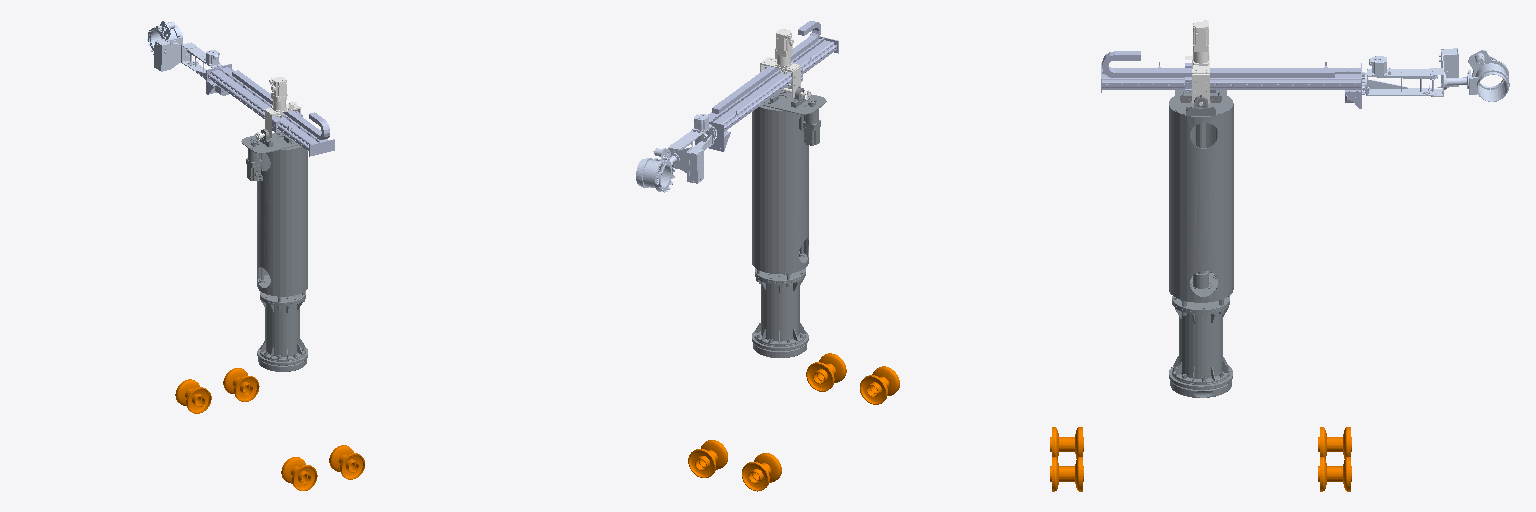
robot.urdf — 架子式桃子采摘机器人总装4:
<?xml version="1.0"?>
<robot name="架子式桃子采摘机器人总装4">

  <!-- 虚拟根连杆：KDL 不支持根连杆带惯量，用无惯量的 base_footprint 作 TF 树根（REP-105） -->
  <link name="base_footprint"/>

  <joint name="base_footprint_joint" type="fixed">
    <parent link="base_footprint"/>
    <child link="base_link"/>
    <origin xyz="0 0 0" rpy="0 0 0"/>
  </joint>

  <link name="base_link">
    <visual>
      <origin xyz="0 0 0" rpy="0 0 0" />
      <geometry>
        <mesh filename="package://peach_gantry_description/meshes/base_link.STL" />
      </geometry>
      <material name="">
        <color rgba="1.00000000 0.00000000 0.00000000 1.00000000"/>
      </material>
    </visual>
    <collision>
      <origin xyz="0 0 0" rpy="0 0 0" />
      <geometry>
        <mesh filename="package://peach_gantry_description/meshes/base_link.STL" />
      </geometry>
    </collision>
    <inertial>
      <origin xyz="-0.1464429 0.0020312 -0.142396" rpy="0 0 0" />
      <mass value="196.9928677" />
      <inertia ixx="4.3980832" ixy="-0.0011572" ixz="-0.0024354" iyy="11.4438345" iyz="-0.0021542" izz="13.3446757" />
    </inertial>
  </link>

  <link name="right1_link">
    <visual>
      <origin xyz="0 0 0" rpy="0 0 0" />
      <geometry>
        <mesh filename="package://peach_gantry_description/meshes/right1_link.STL" />
      </geometry>
      <material name="">
        <color rgba="1.00000000 0.54902000 0.00000000 1.00000000"/>
      </material>
    </visual>
    <collision>
      <origin xyz="0 0 0" rpy="0 0 0" />
      <geometry>
        <mesh filename="package://peach_gantry_description/meshes/right1_link.STL" />
      </geometry>
    </collision>
    <inertial>
      <origin xyz="0 0 -0.08047" rpy="0 0 0" />
      <mass value="2.1306" />
      <inertia ixx="0.0033864" ixy="0" ixz="0" iyy="0.0033864" iyz="0" izz="0.0043308" />
    </inertial>
  </link>

  <link name="right2_link">
    <visual>
      <origin xyz="0 0 0" rpy="0 0 0" />
      <geometry>
        <mesh filename="package://peach_gantry_description/meshes/right2_link.STL" />
      </geometry>
      <material name="">
        <color rgba="1.00000000 0.54901961 0.00000000 1.00000000"/>
      </material>
    </visual>
    <collision>
      <origin xyz="0 0 0" rpy="0 0 0" />
      <geometry>
        <mesh filename="package://peach_gantry_description/meshes/right2_link.STL" />
      </geometry>
    </collision>
    <inertial>
      <origin xyz="0 0 -0.08047" rpy="0 0 0" />
      <mass value="2.1306481" />
      <inertia ixx="0.0033864" ixy="0" ixz="0" iyy="0.0033864" iyz="0" izz="0.0043308" />
    </inertial>
  </link>

  <link name="left1_link">
    <visual>
      <origin xyz="0 0 0" rpy="0 0 0" />
      <geometry>
        <mesh filename="package://peach_gantry_description/meshes/left1_link.STL" />
      </geometry>
      <material name="">
        <color rgba="1.00000000 0.54901961 0.00000000 1.00000000"/>
      </material>
    </visual>
    <collision>
      <origin xyz="0 0 0" rpy="0 0 0" />
      <geometry>
        <mesh filename="package://peach_gantry_description/meshes/left1_link.STL" />
      </geometry>
    </collision>
    <inertial>
      <origin xyz="0 0 0.08047" rpy="0 0 0" />
      <mass value="2.1306481" />
      <inertia ixx="0.0033864" ixy="0" ixz="0" iyy="0.0033864" iyz="0" izz="0.0043308" />
    </inertial>
  </link>

  <link name="left2_link">
    <visual>
      <origin xyz="0 0 0" rpy="0 0 0" />
      <geometry>
        <mesh filename="package://peach_gantry_description/meshes/left2_link.STL" />
      </geometry>
      <material name="">
        <color rgba="1.00000000 0.54901961 0.00000000 1.00000000"/>
      </material>
    </visual>
    <collision>
      <origin xyz="0 0 0" rpy="0 0 0" />
      <geometry>
        <mesh filename="package://peach_gantry_description/meshes/left2_link.STL" />
      </geometry>
    </collision>
    <inertial>
      <origin xyz="0 0 0.08047" rpy="0 0 0" />
      <mass value="2.1306481" />
      <inertia ixx="0.0033864" ixy="0" ixz="0" iyy="0.0033864" iyz="0" izz="0.0043308" />
    </inertial>
  </link>

  <link name="link1">
    <visual>
      <origin xyz="0 0 0" rpy="0 0 0" />
      <geometry>
        <mesh filename="package://peach_gantry_description/meshes/link1.STL" />
      </geometry>
      <material name="">
        <color rgba="0.61568627 0.64313725 0.67450980 1.00000000"/>
      </material>
    </visual>
    <collision>
      <origin xyz="0 0 0" rpy="0 0 0" />
      <geometry>
        <mesh filename="package://peach_gantry_description/meshes/link1.STL" />
      </geometry>
    </collision>
    <inertial>
      <origin xyz="-0.0001216 -0.0000721 0.4433465" rpy="0 0 0" />
      <mass value="33.5976929" />
      <inertia ixx="0.9014928" ixy="-0.0000331" ixz="-0.000085" iyy="0.9010152" iyz="-0.0000091" izz="0.1582769" />
    </inertial>
  </link>

  <link name="link2">
    <visual>
      <origin xyz="0 0 0" rpy="0 0 0" />
      <geometry>
        <mesh filename="package://peach_gantry_description/meshes/link2.STL" />
      </geometry>
      <material name="">
        <color rgba="0.61568627 0.64313725 0.67450980 1.00000000"/>
      </material>
    </visual>
    <collision>
      <origin xyz="0 0 0" rpy="0 0 0" />
      <geometry>
        <mesh filename="package://peach_gantry_description/meshes/link2.STL" />
      </geometry>
    </collision>
    <inertial>
      <origin xyz="-0.002365 -0.0000007 0.3819323" rpy="0 0 0" />
      <mass value="23.1376583" />
      <inertia ixx="0.8063871" ixy="0.0012704" ixz="-0.0000001" iyy="0.7947931" iyz="0.0000001" izz="0.2797177" />
    </inertial>
  </link>

  <link name="link3">
    <visual>
      <origin xyz="0 0 0" rpy="0 0 0" />
      <geometry>
        <mesh filename="package://peach_gantry_description/meshes/link3.STL" />
      </geometry>
      <material name="">
        <color rgba="1.00000000 1.00000000 1.00000000 1.00000000"/>
      </material>
    </visual>
    <collision>
      <origin xyz="0 0 0" rpy="0 0 0" />
      <geometry>
        <mesh filename="package://peach_gantry_description/meshes/link3.STL" />
      </geometry>
    </collision>
    <inertial>
      <origin xyz="-0.1037037 -0.0005206 -0.124123" rpy="0 0 0" />
      <mass value="0.4310566" />
      <inertia ixx="0.000523" ixy="-0.0000008" ixz="0.0000002" iyy="0.0006795" iyz="-0.0000001" izz="0.0003827" />
    </inertial>
  </link>

  <link name="link4">
    <visual>
      <origin xyz="0 0 0" rpy="0 0 0" />
      <geometry>
        <mesh filename="package://peach_gantry_description/meshes/link4.STL" />
      </geometry>
      <material name="">
        <color rgba="0.79216000 0.81961000 0.93333000 1.00000000"/>
      </material>
    </visual>
    <collision>
      <origin xyz="0 0 0" rpy="0 0 0" />
      <geometry>
        <mesh filename="package://peach_gantry_description/meshes/link4.STL" />
      </geometry>
    </collision>
    <inertial>
      <origin xyz="0.0074906 -0.031854 0.15501" rpy="0 0 0" />
      <mass value="3.2005" />
      <inertia ixx="0.19353" ixy="0.0000164" ixz="0.0000007" iyy="0.19429" iyz="-0.003156" izz="0.0038058" />
    </inertial>
  </link>

  <link name="link5">
    <visual>
      <origin xyz="0 0 0" rpy="0 0 0" />
      <geometry>
        <mesh filename="package://peach_gantry_description/meshes/link5.STL" />
      </geometry>
      <material name="">
        <color rgba="0.86666667 0.90980392 1.00000000 1.00000000"/>
      </material>
    </visual>
    <collision>
      <origin xyz="0 0 0" rpy="0 0 0" />
      <geometry>
        <mesh filename="package://peach_gantry_description/meshes/link5.STL" />
      </geometry>
    </collision>
    <inertial>
      <origin xyz="-0.0109649 0.0060867 0.1084363" rpy="0 0 0" />
      <mass value="0.5388368" />
      <inertia ixx="0.0016443" ixy="-0.0000217" ixz="-0.0000031" iyy="0.0016085" iyz="0.0000012" izz="0.0002419" />
    </inertial>
  </link>

  <link name="link6">
    <visual>
      <origin xyz="0 0 0" rpy="0 0 0" />
      <geometry>
        <mesh filename="package://peach_gantry_description/meshes/link6.STL" />
      </geometry>
      <material name="">
        <color rgba="0.86666667 0.90980392 1.00000000 1.00000000"/>
      </material>
    </visual>
    <collision>
      <origin xyz="0 0 0" rpy="0 0 0" />
      <geometry>
        <mesh filename="package://peach_gantry_description/meshes/link6.STL" />
      </geometry>
    </collision>
    <inertial>
      <origin xyz="0.0667896 0.1291973 -0.0039918" rpy="0 0 0" />
      <mass value="1.1636596" />
      <inertia ixx="0.0027843" ixy="0.0000145" ixz="0.0000323" iyy="0.0021337" iyz="-0.0000716" izz="0.0015378" />
    </inertial>
  </link>

  <joint name="right1_joint" type="continuous">
    <parent link="base_link" />
    <child link="right1_link" />
    <origin xyz="0.065 -0.59797 -0.315" rpy="1.5708 0 0" />
    <axis xyz="0 0 -1" />
    <!-- 同 joint1：continuous 关节补 <limit>，避免控制器解析 URDF 限值时段错误 -->
    <limit effort="100" velocity="10" />
    <hardware>
      <motorType>None</motorType>
      <motorDirection>1</motorDirection>
      <armature>0</armature>
    </hardware>
  </joint>

  <joint name="right2_joint" type="continuous">
    <parent link="base_link" />
    <child link="right2_link" />
    <origin xyz="-0.205 -0.59797 -0.315" rpy="1.5708 0 0" />
    <axis xyz="0 0 -1" />
    <!-- 同 joint1：continuous 关节补 <limit>，避免控制器解析 URDF 限值时段错误 -->
    <limit effort="100" velocity="10" />
    <hardware>
      <motorType>None</motorType>
      <motorDirection>1</motorDirection>
      <armature>0</armature>
    </hardware>
  </joint>

  <joint name="left1_joint" type="continuous">
    <parent link="base_link" />
    <child link="left1_link" />
    <origin xyz="0.065 0.59797 -0.315" rpy="1.5708 0 0" />
    <axis xyz="0 0 -1" />
    <!-- 同 joint1：continuous 关节补 <limit>，避免控制器解析 URDF 限值时段错误 -->
    <limit effort="100" velocity="10" />
    <hardware>
      <motorType>None</motorType>
      <motorDirection>1</motorDirection>
      <armature>0</armature>
    </hardware>
  </joint>

  <joint name="left2_joint" type="continuous">
    <parent link="base_link" />
    <child link="left2_link" />
    <origin xyz="-0.205 0.59797 -0.315" rpy="1.5708 0 0" />
    <axis xyz="0 0 -1" />
    <!-- 同 joint1：continuous 关节补 <limit>，避免控制器解析 URDF 限值时段错误 -->
    <limit effort="100" velocity="10" />
    <hardware>
      <motorType>None</motorType>
      <motorDirection>1</motorDirection>
      <armature>0</armature>
    </hardware>
  </joint>

  <joint name="joint1" type="revolute">
    <parent link="base_link" />
    <child link="link1" />
    <origin xyz="0 0 0" rpy="0 0 0" />
    <axis xyz="0 0 1" />
    <!-- 实物限位 ±180°（连续旋转会缠绕线缆）；速度为仿真占位限值，待实测替换 -->
    <limit lower="-3.1416" upper="3.1416" effort="100" velocity="1.5" />
    <hardware>
      <motorType>None</motorType>
      <motorDirection>1</motorDirection>
      <armature>0</armature>
    </hardware>
  </joint>

  <joint name="joint2" type="prismatic">
    <parent link="link1" />
    <child link="link2" />
    <origin xyz="0 0 0.4425" rpy="0 0 0" />
    <axis xyz="0 0 1" />
    <limit lower="0" upper="0.3" effort="100" velocity="0.25" /><!-- 仿真占位限值 -->
    <hardware>
      <motorType>None</motorType>
      <motorDirection>1</motorDirection>
      <armature>0</armature>
    </hardware>
  </joint>

  <joint name="joint3" type="revolute">
    <parent link="link2" />
    <child link="link3" />
    <origin xyz="0.1065 0 0.8392" rpy="0 1.5708 0" />
    <axis xyz="0 0 -1" />
    <limit lower="-0.8" upper="0.5" effort="100" velocity="1.5" /><!-- 仿真占位限值 -->
    <hardware>
      <motorType>None</motorType>
      <motorDirection>1</motorDirection>
      <armature>0</armature>
    </hardware>
  </joint>

  <joint name="joint4" type="prismatic">
    <parent link="link3" />
    <child link="link4" />
    <origin xyz="-0.031 0 -0.1065" rpy="-1.5708 -1.5708 0" />
    <axis xyz="0 0 1" />
    <limit lower="-0.5" upper="0.15" effort="100" velocity="0.25" /><!-- 仿真占位限值 -->
    <hardware>
      <motorType>None</motorType>
      <motorDirection>1</motorDirection>
      <armature>0</armature>
    </hardware>
  </joint>

  <joint name="joint5" type="revolute">
    <parent link="link4" />
    <child link="link5" />
    <origin xyz="-0.0009997 -0.0104 0.63294" rpy="0 0 0" />
    <axis xyz="0 0 1" />
    <limit lower="0.5" upper="3.6" effort="100" velocity="3.0" /><!-- 仿真占位限值 -->
    <hardware>
      <motorType>None</motorType>
      <motorDirection>1</motorDirection>
      <armature>0</armature>
    </hardware>
  </joint>

  <joint name="joint6" type="revolute">
    <parent link="link5" />
    <child link="link6" />
    <origin xyz="0 0 0.261" rpy="1.5708 0 1.1255" />
    <axis xyz="0 0 1" />
    <limit lower="-1" upper="1" effort="100" velocity="3.0" /><!-- 仿真占位限值 -->
    <hardware>
      <motorType>None</motorType>
      <motorDirection>1</motorDirection>
      <armature>0</armature>
    </hardware>
  </joint>

  <!-- 末端工具坐标系（TCP）：相对 link6（joint6 坐标系）零姿态偏移
       x=47.9 mm, y=230.066 mm, z=0 mm（2026-08-04 实测给定），
       夹爪/吸盘换装或重测后修改 tool0_joint 的 origin -->
  <link name="tool0"/>

  <joint name="tool0_joint" type="fixed">
    <parent link="link6"/>
    <child link="tool0"/>
    <origin xyz="0.0479 0.230066 0" rpy="0 0 0"/>
  </joint>

</robot>

--- What the picture shows (computed from the rendered views, not written in the file) ---
Views: 3 orthographic renders of the robot side by side, from view 1: azimuth 30°, elevation 25°; view 2: azimuth 150°, elevation 25°; view 3: azimuth 270°, elevation 25°.
Robot: 架子式桃子采摘机器人总装4 — 13 links, 12 joints (4 revolute, 4 continuous, 2 prismatic, 2 fixed); root link base_footprint; default pose: joints at zero except 1 at the middle of their limits (joint5 = 2.05).
Links seen in each view (by area): view 1: link2, link4, link1, link6, link3, left2_link, right1_link, right2_link, left1_link, link5; view 2: link2, link4, link1, link6, link3, right1_link, left2_link, right2_link, left1_link, link5; view 3: link2, link4, link1, link6, link5, link3, right1_link, left1_link, left2_link, right2_link.
Link boxes in pixels (bbox=[...]): link2: bbox=[241, 128, 307, 296]; link4: bbox=[206, 64, 334, 156]; link1: bbox=[257, 154, 307, 371]; link6: bbox=[147, 21, 196, 71]; link3: bbox=[255, 77, 300, 140]; left2_link: bbox=[175, 379, 211, 413]; right1_link: bbox=[329, 445, 364, 479]; right2_link: bbox=[281, 457, 317, 490]; left1_link: bbox=[223, 368, 259, 401]; link5: bbox=[186, 46, 222, 79]; link2: bbox=[752, 85, 826, 273]; link4: bbox=[695, 21, 838, 151]; link1: bbox=[752, 115, 808, 357]; link6: bbox=[636, 143, 703, 192]; link3: bbox=[760, 29, 810, 99]; right1_link: bbox=[806, 353, 846, 391]; left2_link: bbox=[742, 453, 781, 491]; right2_link: bbox=[860, 366, 899, 404]; left1_link: bbox=[688, 440, 727, 477]; link5: bbox=[675, 114, 716, 150]; link2: bbox=[1169, 90, 1233, 302]; link4: bbox=[1101, 51, 1369, 108]; link1: bbox=[1169, 123, 1232, 397]; link6: bbox=[1429, 48, 1509, 101]; link5: bbox=[1362, 56, 1437, 95]; link3: bbox=[1185, 20, 1209, 105]; right1_link: bbox=[1050, 457, 1083, 491]; left1_link: bbox=[1318, 457, 1351, 491]; left2_link: bbox=[1318, 427, 1351, 458]; right2_link: bbox=[1050, 427, 1083, 458].
Size in the robot's own frame: 0.4049 by 1.77 by 1.94 metres.
10 mesh visuals loaded from 11 distinct referenced files (10 binary STL); not drawn: 1 (reference not matched to a file when rendering).
